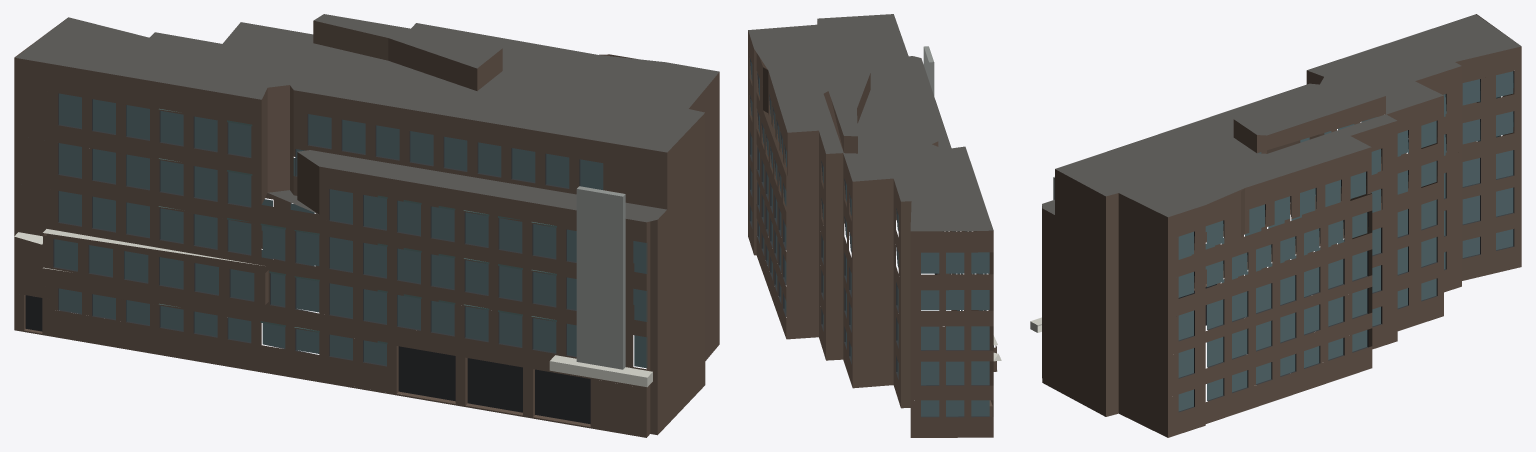
File: politie-lijnbaansgracht.lod1.glb
The picture shows the model from 3 angles, left to right: view 1: azimuth 30°, elevation 25°; view 2: azimuth 150°, elevation 25°; view 3: azimuth 270°, elevation 25°; orthographic projection. The views are drawn at different scales.
Visible parts, largest first — view 1: politie-lijnbaansgracht; view 2: politie-lijnbaansgracht; view 3: politie-lijnbaansgracht.
Boxes of the visible parts, x1,y1,x2,y2 form: politie-lijnbaansgracht: (14,14,719,437); politie-lijnbaansgracht: (748,14,1001,437); politie-lijnbaansgracht: (1030,14,1521,437).
Bounding box in the file's own units: 39.64 × 21.5 × 40.08.
